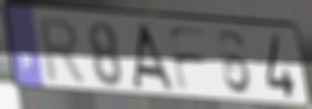4: (265, 34, 297, 101)
6: (217, 28, 253, 99)
8: (87, 20, 126, 90)
A: (130, 22, 177, 94)
F: (165, 24, 210, 94)
R: (37, 15, 90, 89)
